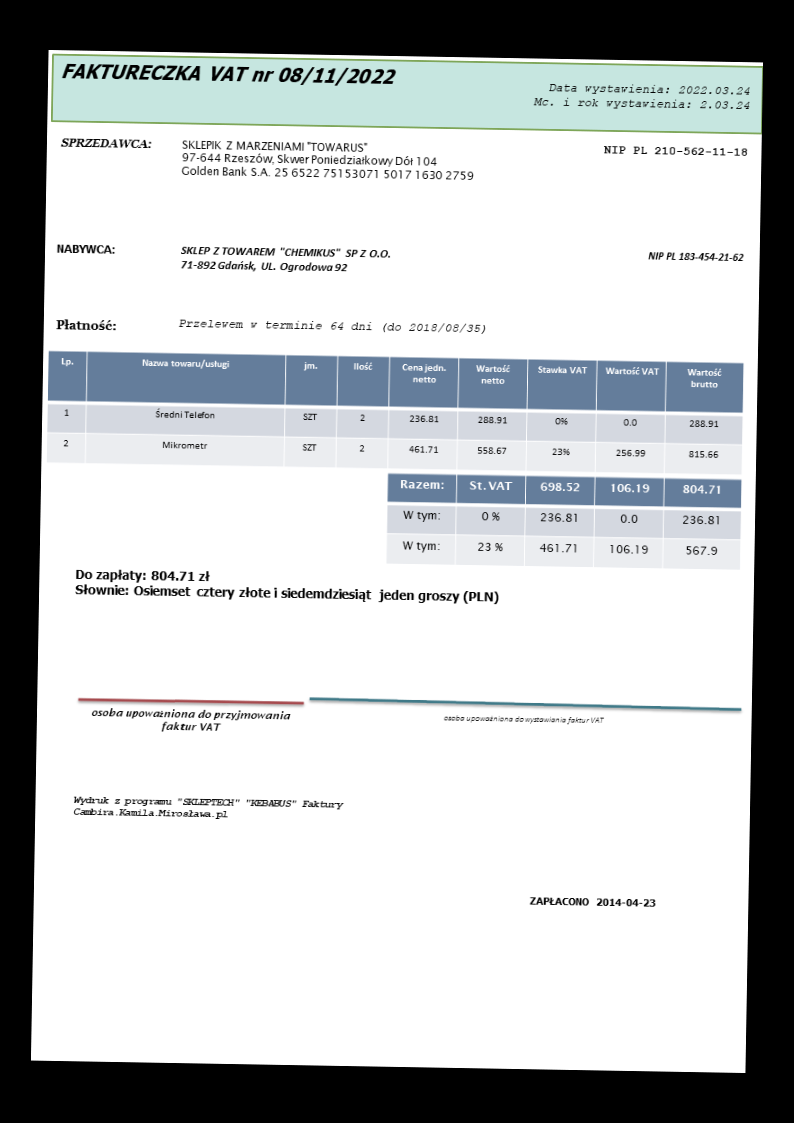Table: (45, 347, 744, 474), (384, 472, 743, 573)
TextBox: (71, 567, 502, 608), (179, 137, 476, 185), (58, 58, 398, 88), (70, 791, 344, 825), (531, 79, 753, 114), (178, 243, 390, 276), (88, 705, 293, 737), (176, 316, 487, 335), (440, 712, 608, 728), (600, 142, 749, 159), (527, 894, 659, 909), (58, 134, 152, 151), (644, 249, 744, 264), (54, 316, 117, 333), (53, 240, 116, 256)
